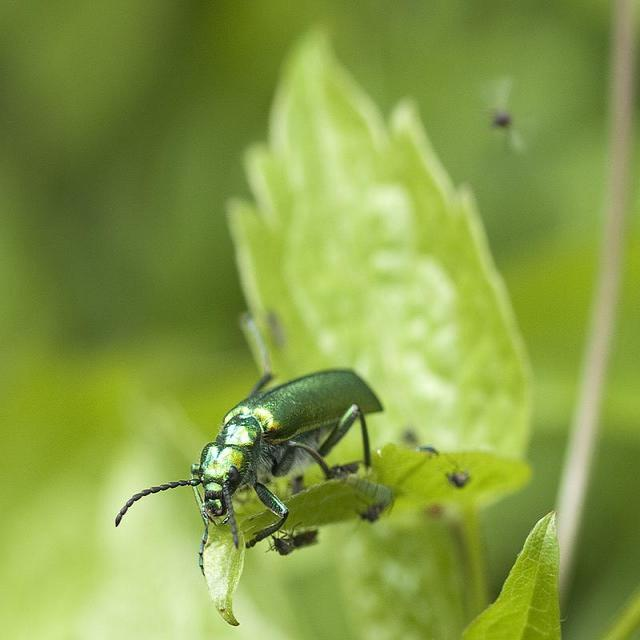BlisterBeetle-Adult-: (105, 363, 406, 566)
